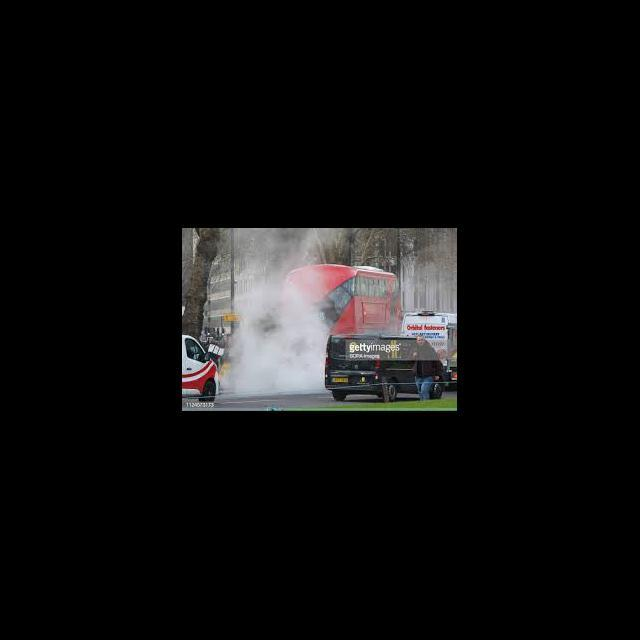Smoke: (234, 282, 323, 392)
